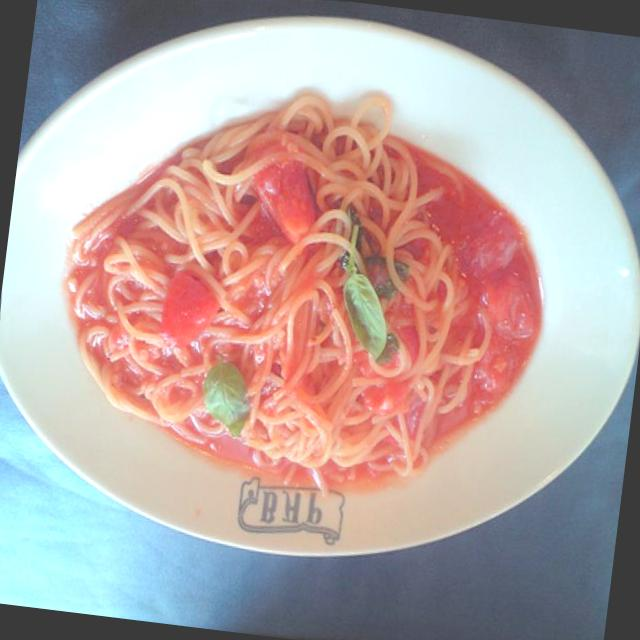Pasta: (38, 82, 566, 532)
